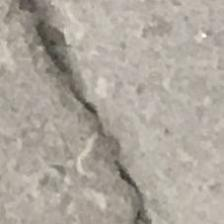Crack: (13, 0, 181, 224)
